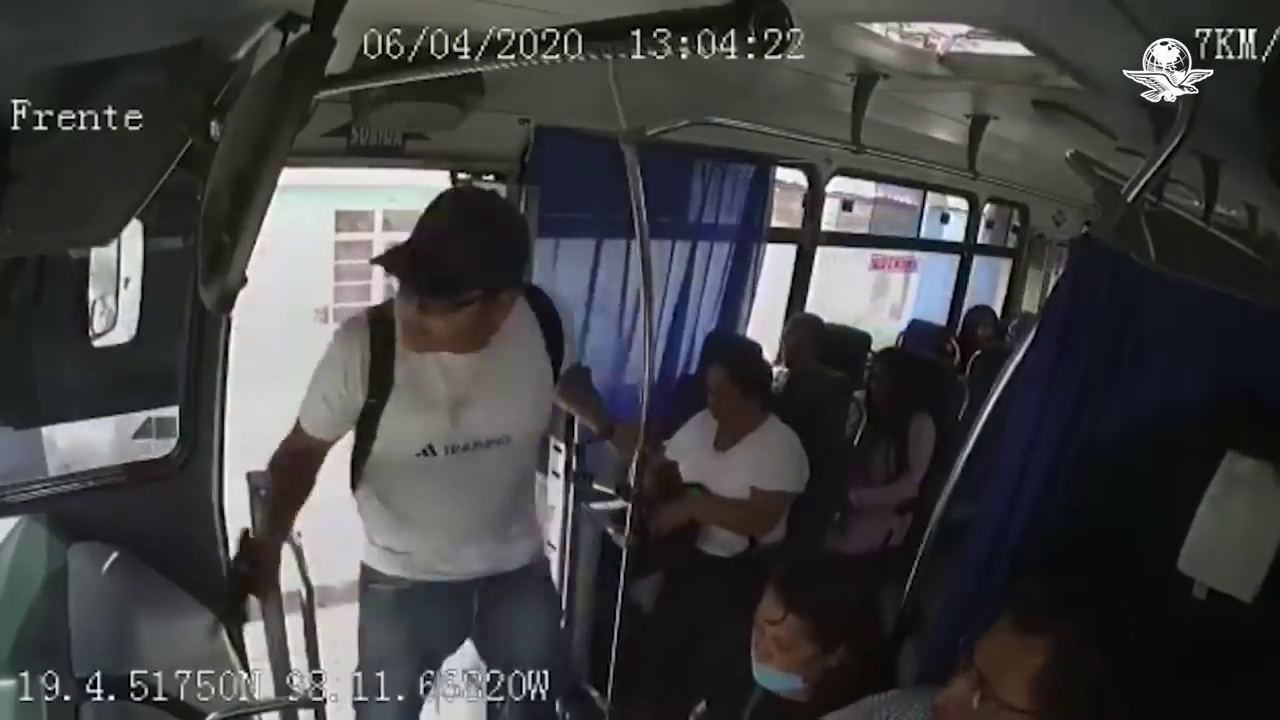pistol: (200, 525, 279, 646)
